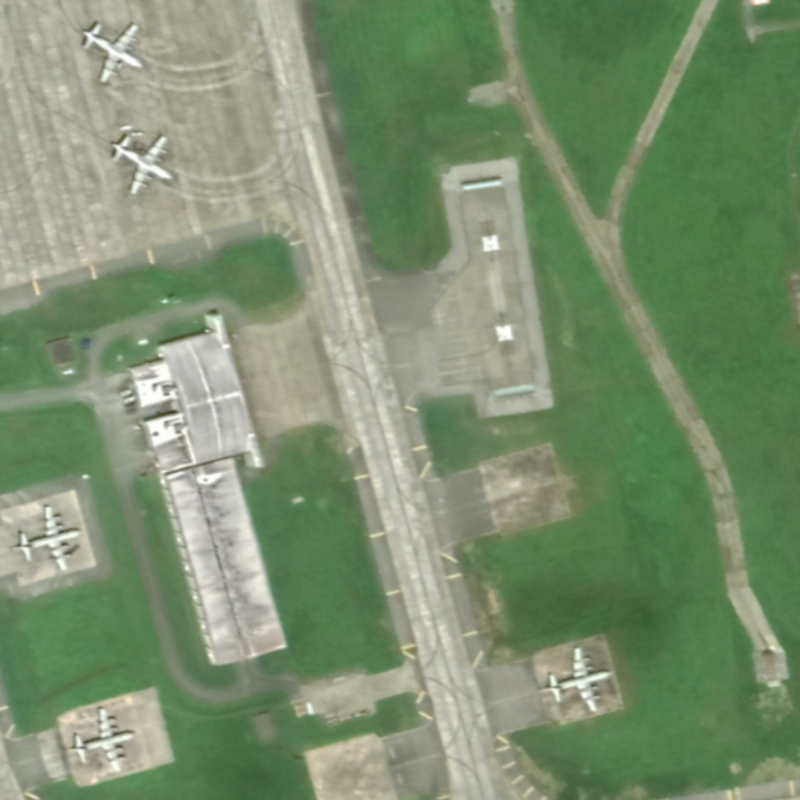A9: (5, 500, 89, 582), (62, 698, 143, 781), (533, 640, 615, 721), (101, 121, 180, 202), (67, 14, 151, 90)
